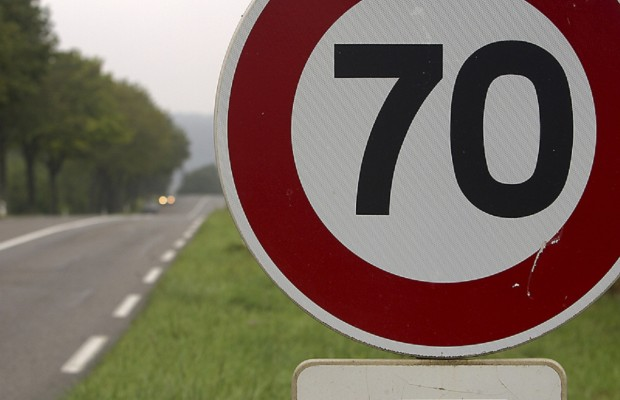Speed_limit_70km: (220, 2, 620, 353)
